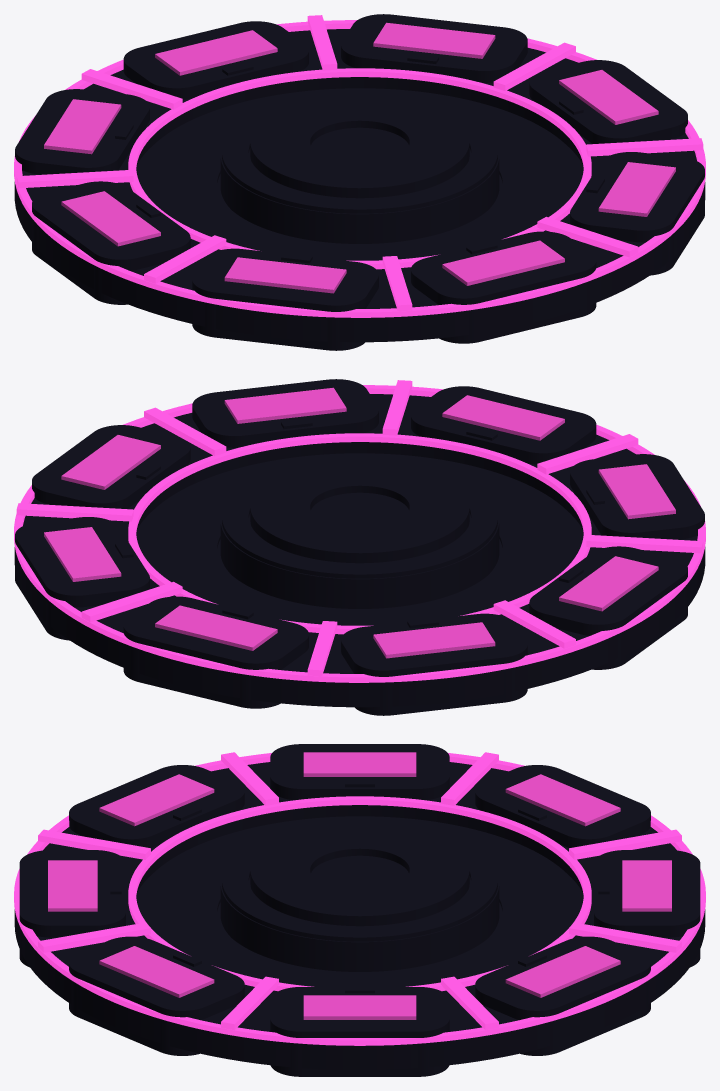
File: boss_core.glb
3 renders of one model, top to bottom at view 1: azimuth 30°, elevation 25°; view 2: azimuth 150°, elevation 25°; view 3: azimuth 270°, elevation 25°, orthographic.
Visible parts, largest first — view 1: outer_carrier_ring, inner_ring_floor_plate, core_step_ring, core_disc, core_outer_step, armor_segment_8, carrier_outer_light_ring, armor_segment_1, armor_segment_7, carrier_inner_light_ring, armor_segment_4, armor_segment_2 (+21 smaller); view 2: outer_carrier_ring, inner_ring_floor_plate, core_step_ring, core_disc, core_outer_step, armor_segment_6, carrier_outer_light_ring, armor_segment_5, armor_segment_7, carrier_inner_light_ring, armor_segment_2, armor_segment_4 (+21 smaller); view 3: outer_carrier_ring, inner_ring_floor_plate, core_step_ring, core_disc, core_outer_step, carrier_outer_light_ring, armor_segment_3, armor_segment_2, armor_segment_4, carrier_inner_light_ring, armor_segment_7, armor_segment_6 (+20 smaller).
Boxes of the visible parts, x1,y1,x2,y2 form: outer_carrier_ring: [14, 29, 705, 342]; inner_ring_floor_plate: [136, 88, 583, 260]; core_step_ring: [250, 95, 469, 198]; core_disc: [220, 147, 499, 243]; core_outer_step: [222, 92, 497, 213]; armor_segment_8: [192, 248, 378, 350]; carrier_outer_light_ring: [14, 20, 705, 317]; armor_segment_1: [411, 231, 596, 343]; armor_segment_7: [32, 181, 190, 304]; carrier_inner_light_ring: [128, 68, 591, 269]; armor_segment_4: [341, 14, 527, 82]; armor_segment_2: [570, 152, 704, 275]; outer_carrier_ring: [14, 394, 705, 707]; inner_ring_floor_plate: [136, 453, 583, 625]; core_step_ring: [250, 460, 469, 563]; core_disc: [220, 512, 499, 608]; core_outer_step: [222, 457, 497, 578]; armor_segment_6: [341, 613, 527, 715]; carrier_outer_light_ring: [14, 385, 705, 682]; armor_segment_5: [123, 596, 308, 708]; armor_segment_7: [529, 546, 687, 669]; carrier_inner_light_ring: [128, 433, 591, 634]; armor_segment_2: [192, 379, 378, 447]; armor_segment_4: [15, 517, 149, 640]; outer_carrier_ring: [14, 762, 705, 1070]; inner_ring_floor_plate: [136, 816, 583, 986]; core_step_ring: [250, 823, 469, 926]; core_disc: [220, 875, 499, 971]; core_outer_step: [222, 820, 497, 941]; carrier_outer_light_ring: [14, 753, 705, 1045]; armor_segment_3: [270, 987, 449, 1076]; armor_segment_2: [69, 936, 244, 1055]; armor_segment_4: [475, 936, 650, 1055]; carrier_inner_light_ring: [128, 796, 591, 991]; armor_segment_7: [270, 744, 449, 800]; armor_segment_6: [475, 765, 650, 847].
Size of the model in its own units: 20.84 by 3.05 by 20.84.
